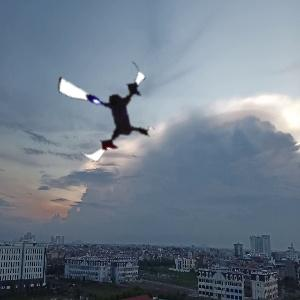drone: (51, 54, 164, 167)
